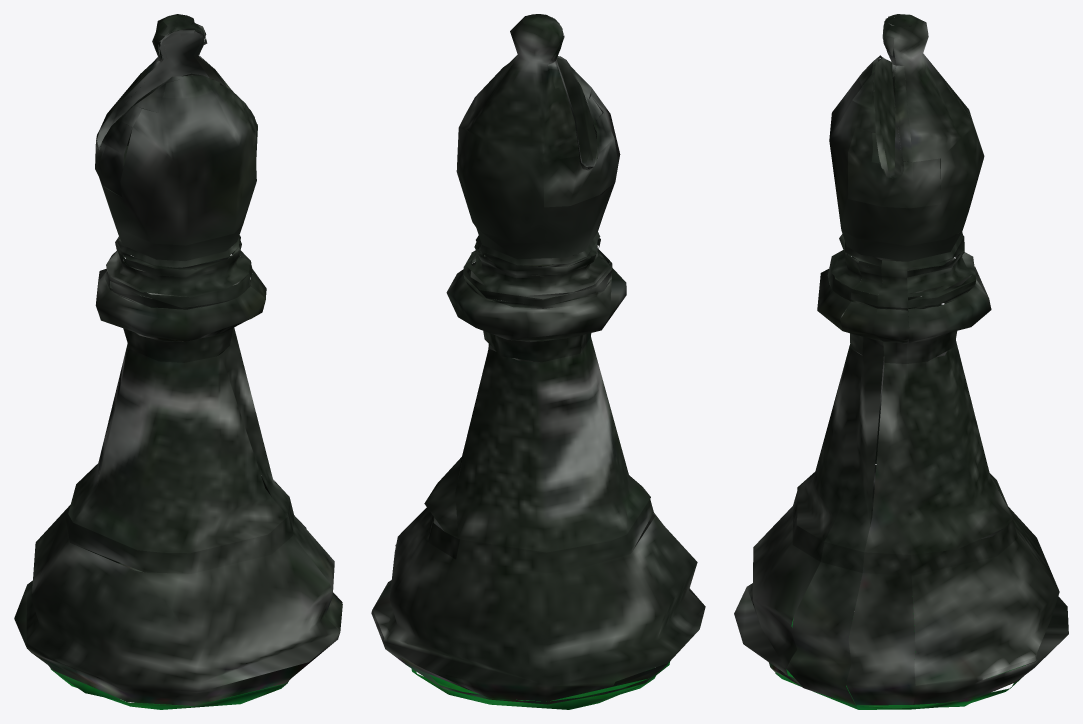
3 views of the same model, side by side, from view 1: azimuth 30°, elevation 25°; view 2: azimuth 150°, elevation 25°; view 3: azimuth 270°, elevation 25° (orthographic).
Parts seen in each view (by area): view 1: BB.001; view 2: BB.001; view 3: BB.001.
Part boxes in pixels (x1,y1,x2,y2): BB.001: [14, 14, 342, 709]; BB.001: [371, 14, 705, 709]; BB.001: [734, 14, 1068, 709].
Size of the model in its own units: 0.0365 by 0.0773 by 0.0365.
Materials: 1 (1 with a texture image).
